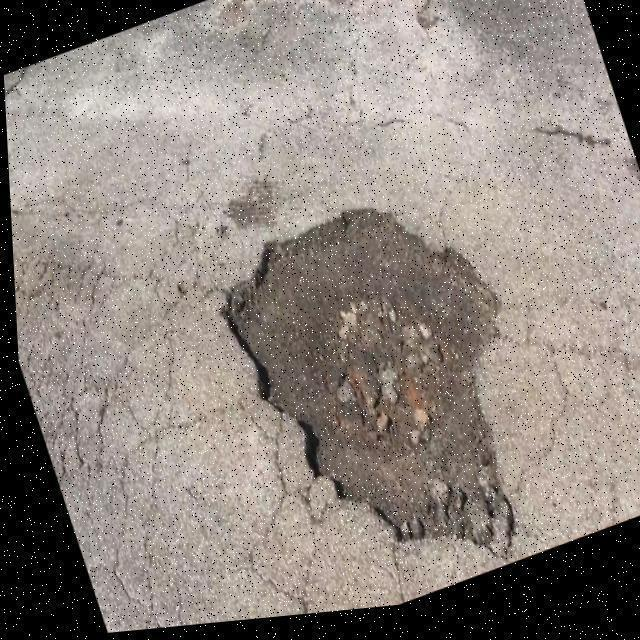Pothole: (224, 212, 514, 565)
